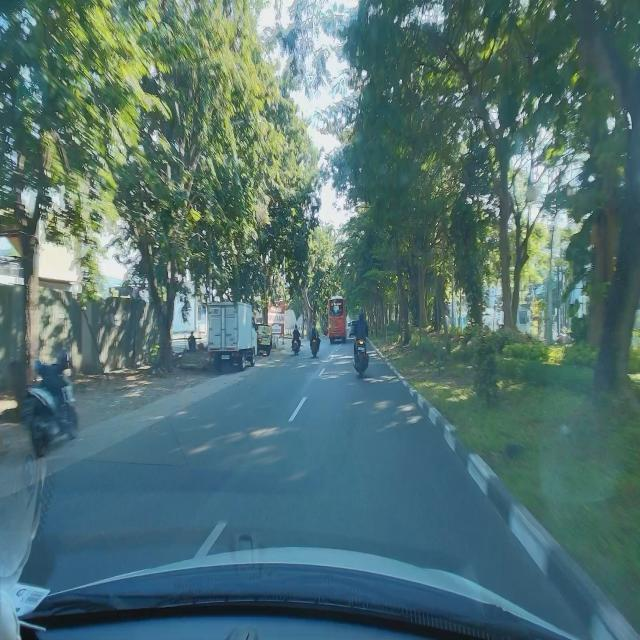bus: (327, 295, 348, 344)
truck: (205, 298, 258, 369)
